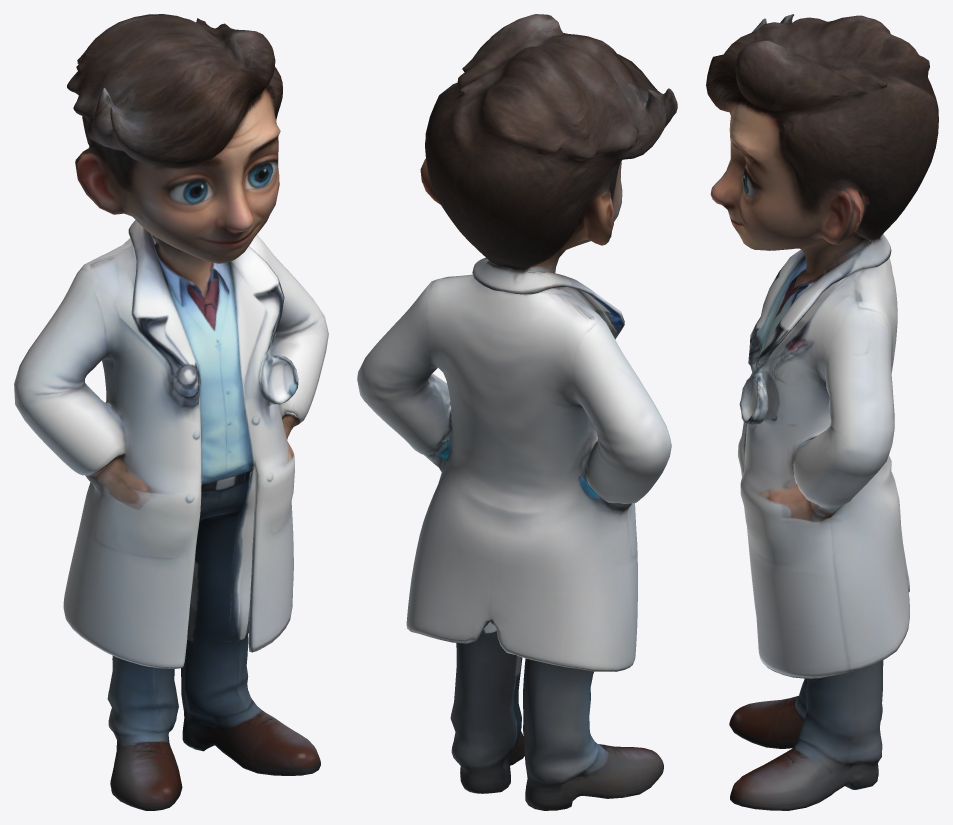
Rendered from doctor.glb.
3 views of the same model, side by side, from view 1: azimuth 30°, elevation 25°; view 2: azimuth 150°, elevation 25°; view 3: azimuth 270°, elevation 25° (orthographic).
Bounding box in the file's own units: 0.861 × 2 × 0.5724.
Materials: 1 (1 with a texture image).
